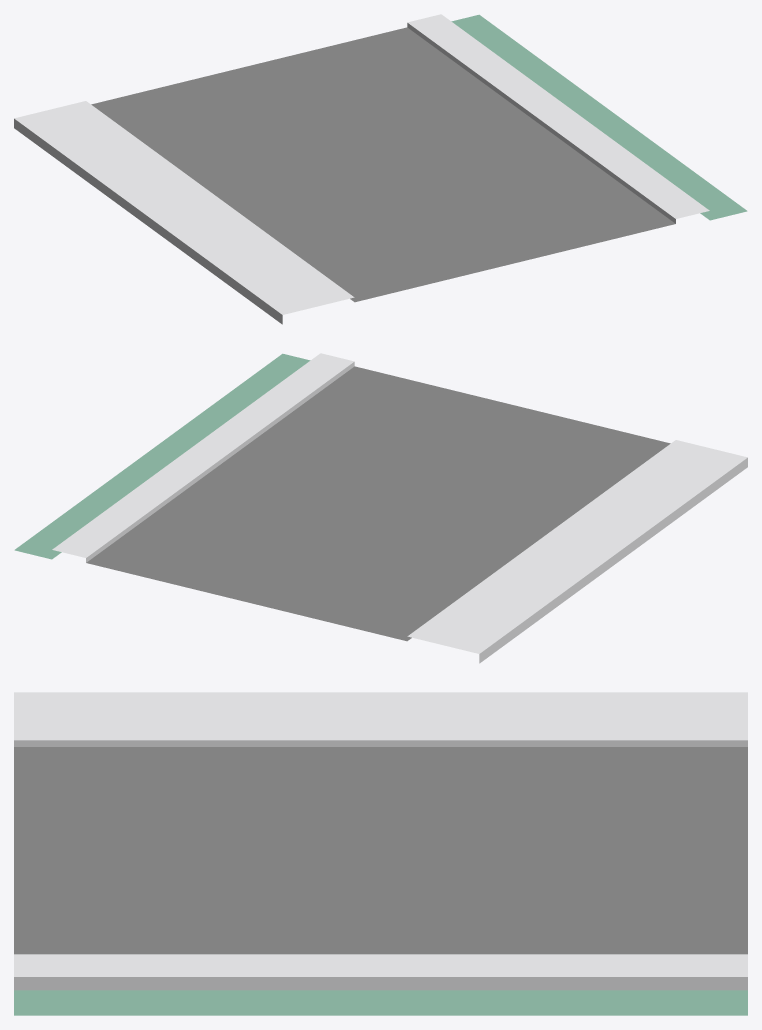
The model's file is roadPitStraight.glb.
The picture shows the model from 3 angles, top to bottom: view 1: azimuth 30°, elevation 25°; view 2: azimuth 150°, elevation 25°; view 3: azimuth 270°, elevation 25°; orthographic projection. The views are drawn at different scales.
Parts seen in each view (by area): view 1: roadPitStraight; view 2: roadPitStraight; view 3: roadPitStraight.
Part boxes in pixels (x1,y1,x2,y2): roadPitStraight: [14, 14, 747, 324]; roadPitStraight: [14, 353, 747, 663]; roadPitStraight: [14, 692, 747, 1015].
Size of the model in its own units: 1 by 0.02 by 1.
